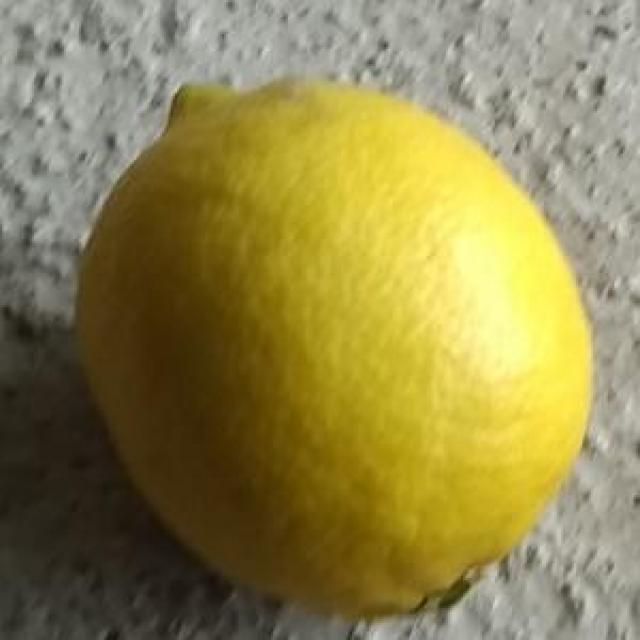lemon: (69, 73, 596, 619)
